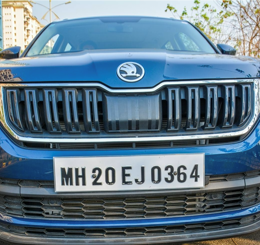MH20EJ0364: (53, 152, 205, 192)
